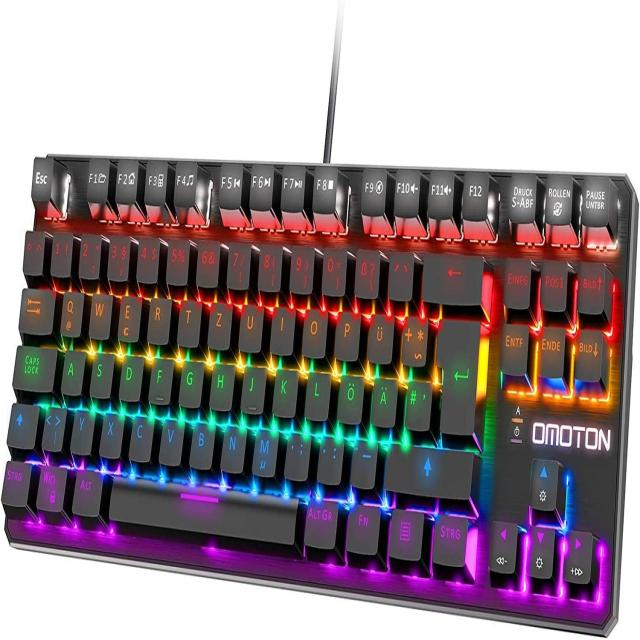0: (320, 243, 346, 295)
1: (49, 227, 72, 276)
2: (77, 228, 100, 279)
3: (105, 230, 130, 280)
4: (135, 231, 159, 282)
5: (164, 234, 189, 284)
6: (195, 235, 219, 287)
7: (225, 237, 250, 288)
8: (256, 238, 281, 291)
9: (287, 239, 314, 293)
a: (59, 347, 84, 394)
accent: (386, 246, 413, 299)
ae: (369, 375, 397, 427)
alt-left: (70, 467, 102, 516)
altgr-right: (302, 497, 338, 549)
b: (187, 419, 214, 468)
c: (127, 413, 153, 461)
caret: (22, 227, 44, 274)
comma: (282, 430, 310, 480)
d: (118, 352, 143, 401)
del: (420, 248, 482, 303)
e: (116, 292, 140, 341)
enter: (435, 312, 480, 438)
f: (147, 354, 172, 404)
g: (177, 357, 203, 407)
h: (208, 361, 234, 410)
hash: (404, 377, 431, 431)
i: (268, 303, 294, 353)
j: (239, 363, 265, 414)
k: (271, 365, 297, 416)
keyboard: (1, 141, 636, 632)
l: (303, 369, 330, 420)
less: (41, 404, 66, 451)
m: (250, 427, 277, 477)
minus: (349, 439, 377, 488)
n: (218, 423, 245, 472)
o: (300, 305, 326, 357)
oe: (336, 372, 363, 423)
p: (333, 308, 360, 360)
plus: (400, 313, 427, 367)
point: (315, 435, 343, 484)
q: (58, 287, 83, 336)
r: (146, 294, 170, 343)
s: (88, 350, 113, 398)
shift-left: (4, 399, 38, 448)
shift-lock: (11, 343, 56, 391)
shift-right: (382, 443, 474, 497)
space: (104, 480, 298, 543)
ss: (352, 243, 380, 297)
strg-left: (0, 457, 31, 505)
strg-right: (431, 510, 468, 569)
t: (175, 296, 200, 346)
tab: (17, 284, 54, 334)
u: (237, 301, 262, 351)
ue: (366, 310, 393, 363)
v: (157, 417, 183, 464)
w: (87, 290, 111, 338)
x: (98, 410, 123, 457)
y: (69, 407, 93, 454)
z: (206, 299, 231, 348)
